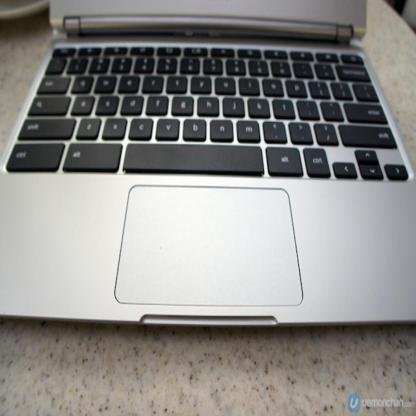board: (0, 0, 415, 325)
